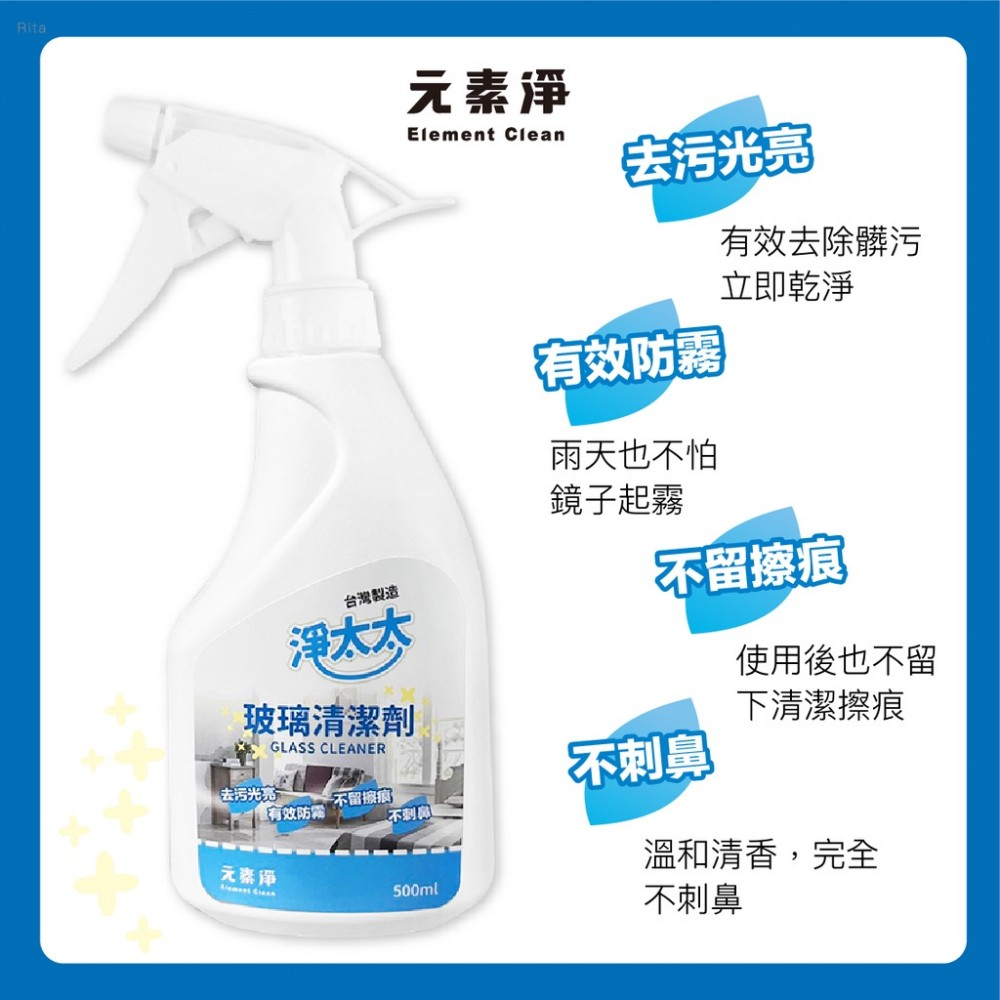cleaner: (53, 87, 515, 950)
